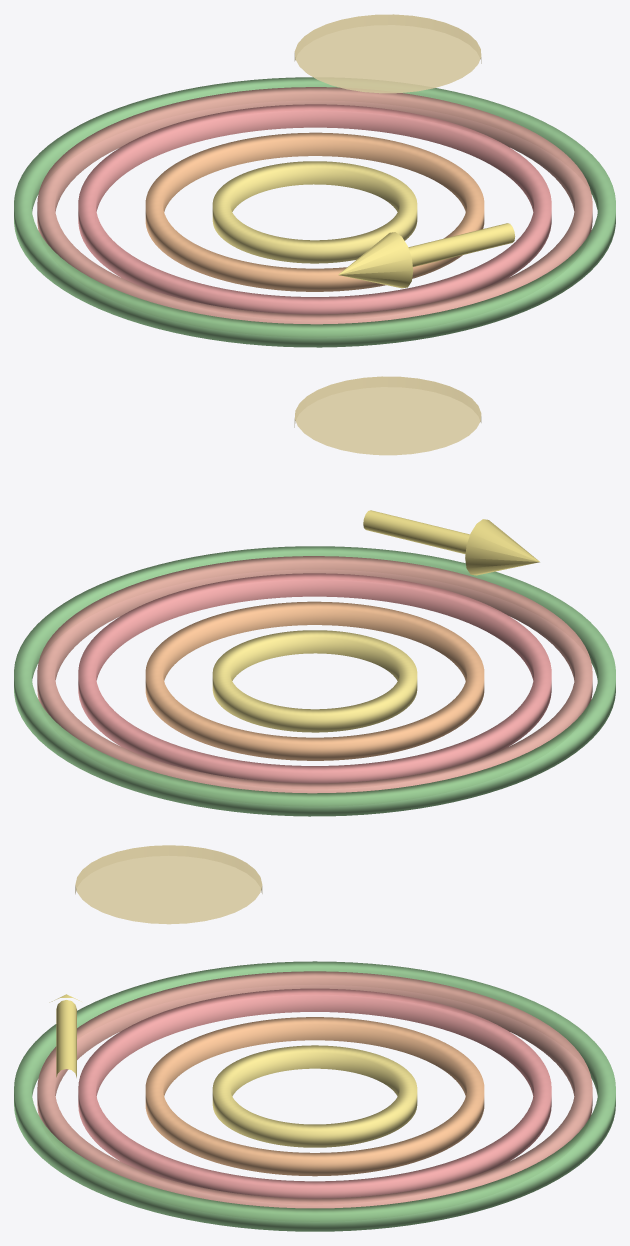
File: earth-layers.glb
The picture shows the model from 3 angles, top to bottom: view 1: azimuth 30°, elevation 25°; view 2: azimuth 150°, elevation 25°; view 3: azimuth 270°, elevation 25°; orthographic projection.
Parts seen in each view (by area): view 1: crust, lower_mantle, upper_mantle, outer_core, cmb_marker, inner_core, depth_scale; view 2: crust, lower_mantle, upper_mantle, outer_core, cmb_marker, inner_core, depth_scale; view 3: crust, lower_mantle, upper_mantle, outer_core, cmb_marker, inner_core, depth_scale.
Boxes of the visible parts, left/top/right/bottom form: crust: left=14, top=77, right=615, bottom=347; lower_mantle: left=78, top=104, right=551, bottom=314; upper_mantle: left=37, top=87, right=592, bottom=324; outer_core: left=145, top=132, right=484, bottom=291; cmb_marker: left=294, top=14, right=481, bottom=93; inner_core: left=212, top=161, right=417, bottom=263; depth_scale: left=338, top=223, right=515, bottom=288; crust: left=14, top=546, right=615, bottom=816; lower_mantle: left=78, top=573, right=551, bottom=783; upper_mantle: left=37, top=556, right=592, bottom=793; outer_core: left=145, top=601, right=484, bottom=760; cmb_marker: left=294, top=376, right=481, bottom=455; inner_core: left=212, top=630, right=417, bottom=732; depth_scale: left=363, top=510, right=539, bottom=575; crust: left=14, top=961, right=615, bottom=1231; lower_mantle: left=78, top=988, right=551, bottom=1198; upper_mantle: left=37, top=971, right=592, bottom=1208; outer_core: left=145, top=1017, right=484, bottom=1176; cmb_marker: left=75, top=845, right=262, bottom=924; inner_core: left=212, top=1045, right=417, bottom=1147; depth_scale: left=49, top=994, right=81, bottom=1077.
Bounding box in the file's own units: 1.36 × 0.548 × 1.36.
